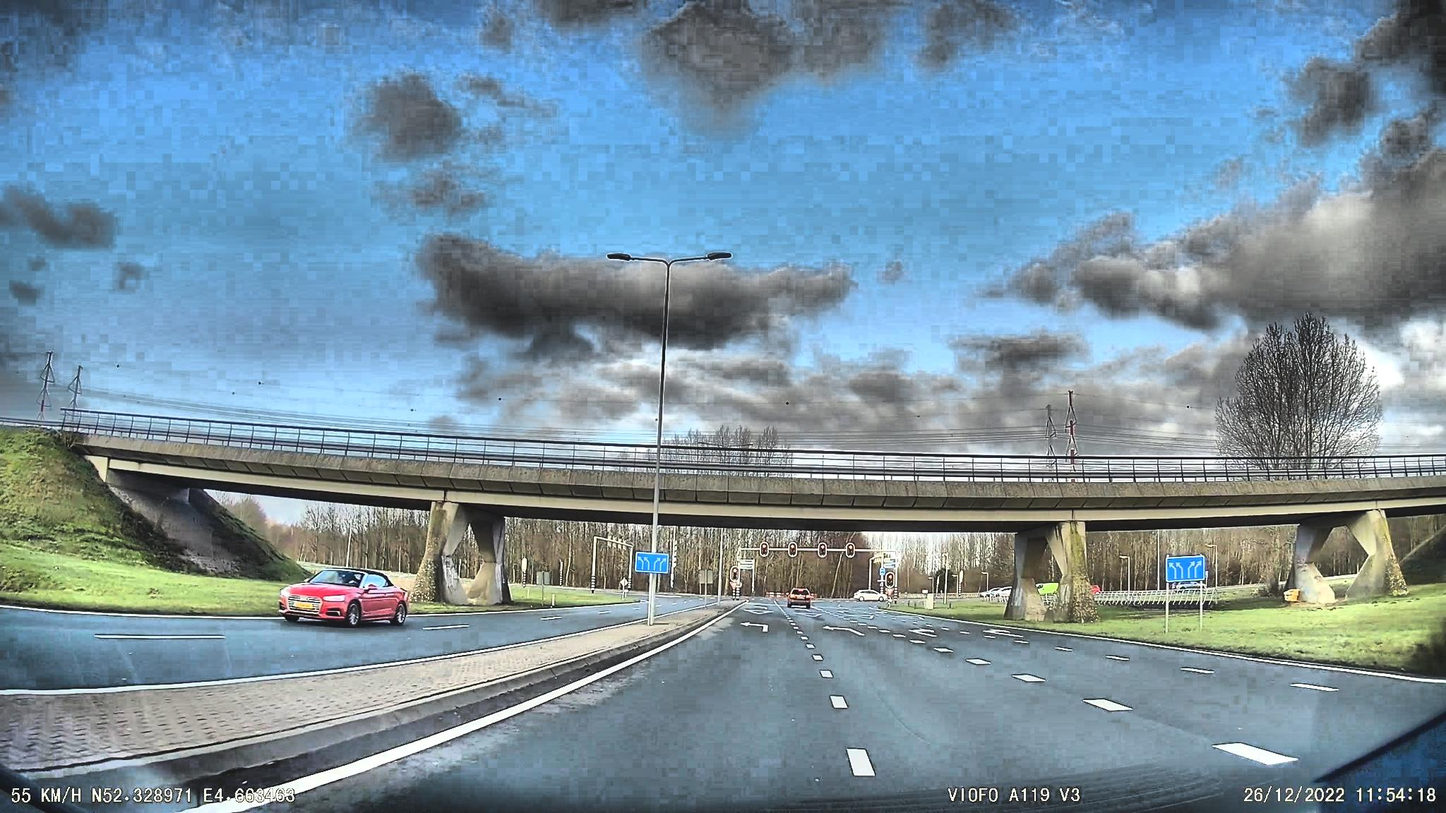Roads: (112, 601, 1446, 813)
